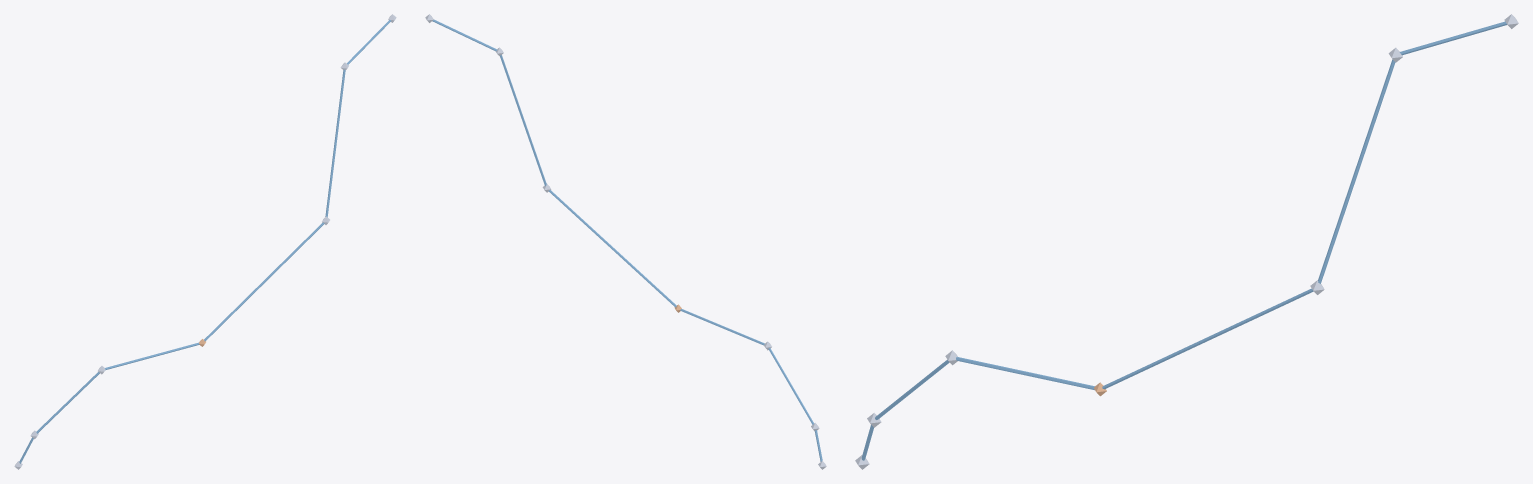
Rendered from constellation-lyn.glb.
The picture shows the model from 3 angles, left to right: view 1: azimuth 30°, elevation 25°; view 2: azimuth 150°, elevation 25°; view 3: azimuth 330°, elevation 25°; orthographic projection. The views are drawn at different scales.
Bounding box in the file's own units: 3.03 × 2.68 × 0.4329.
